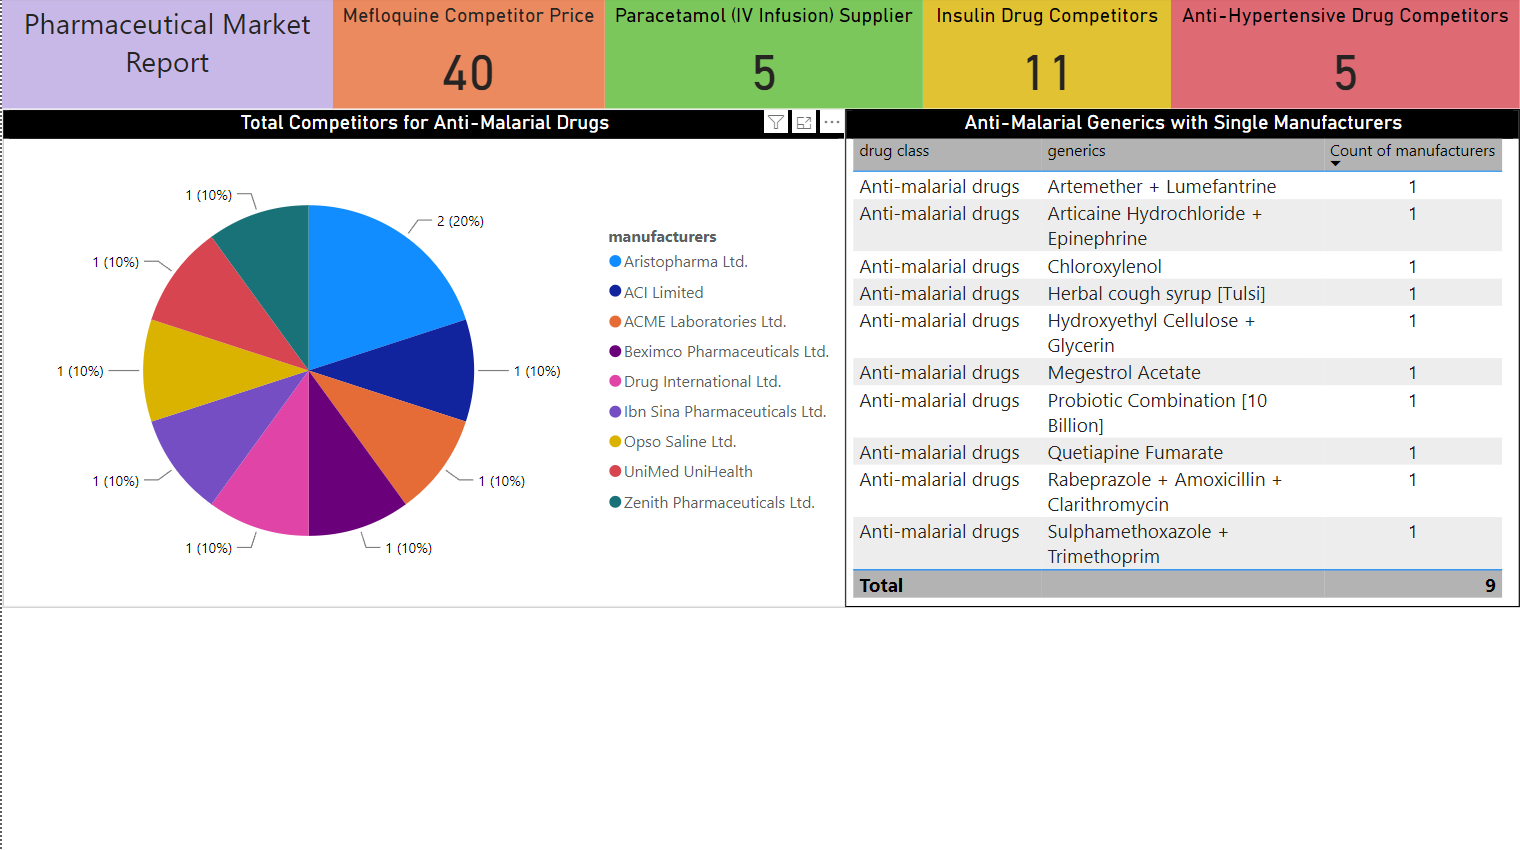

This screenshot's page, from the dashboard's own definition file:
{"tool":"powerbi","page":{"name":"Problem Statement Q","canvas":[1280,720],"ordinal":1},"visuals":[{"type":"tableEx","title":"Anti-Malarial Generics with Single Manufacturers","fields":{"Values":["Sheet1.drug class","Sheet1.generics","Count(Sheet1.manufacturers)"]},"box":[711,94,568.7,420],"z":1000},{"type":"pieChart","title":"Total Competitors for Anti-Malarial Drugs","fields":{"Y":["Count(Sheet1.generics)"],"Category":["Sheet1.manufacturers"],"Series":["Sheet1.drug class"]},"box":[0,94,711,420],"z":3000},{"type":"card","title":" Mefloquine Competitor Price","fields":{"Values":["Max(medicine.Price)"]},"box":[278.5,0,230.1,94],"z":5000},{"type":"textbox","box":[0,0,278.5,94],"z":5001},{"type":"card","title":" Paracetamol (IV Infusion) Supplier","fields":{"Values":["CountNonNull(medicine.generic)"]},"box":[508.7,0,267.8,94],"z":5002},{"type":"card","title":" Insulin Drug Competitors","fields":{"Values":["Count(medicine.manufacturer)"]},"box":[776.4,0,209.6,94],"z":5003},{"type":"card","title":"Anti-Hypertensive Drug Competitors","fields":{"Values":["Count(Sheet1.manufacturers)"]},"box":[986,0,293.7,94],"z":5004}]}

Visuals, with their boxes in screenshot pixels (x1, y1, x2, y2), scaled from the page's 1280x720 canvas onto the 1520x850 screenshot:
"Anti-Malarial Generics with Single Manufacturers" tableEx: <box>844,111,1519,607</box>
"Total Competitors for Anti-Malarial Drugs" pieChart: <box>0,111,844,607</box>
" Mefloquine Competitor Price" card: <box>331,0,604,111</box>
textbox: <box>0,0,331,111</box>
" Paracetamol (IV Infusion) Supplier" card: <box>604,0,922,111</box>
" Insulin Drug Competitors" card: <box>922,0,1171,111</box>
"Anti-Hypertensive Drug Competitors" card: <box>1171,0,1519,111</box>
